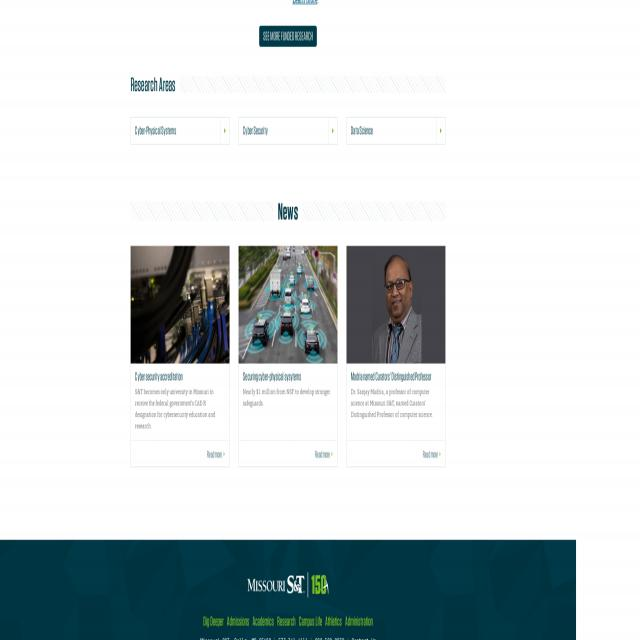button: (130, 116, 230, 147), (238, 116, 338, 147), (346, 116, 446, 147), (248, 572, 328, 598), (259, 26, 317, 47)
